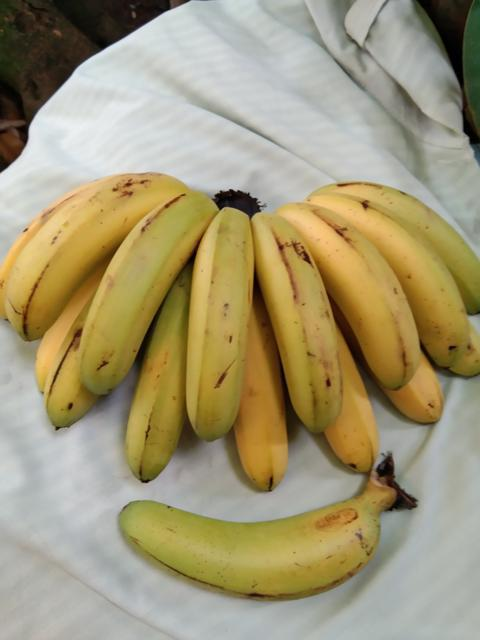ripe: (117, 486, 392, 605), (8, 144, 166, 329), (79, 189, 213, 396), (248, 209, 354, 431), (177, 207, 266, 440)
